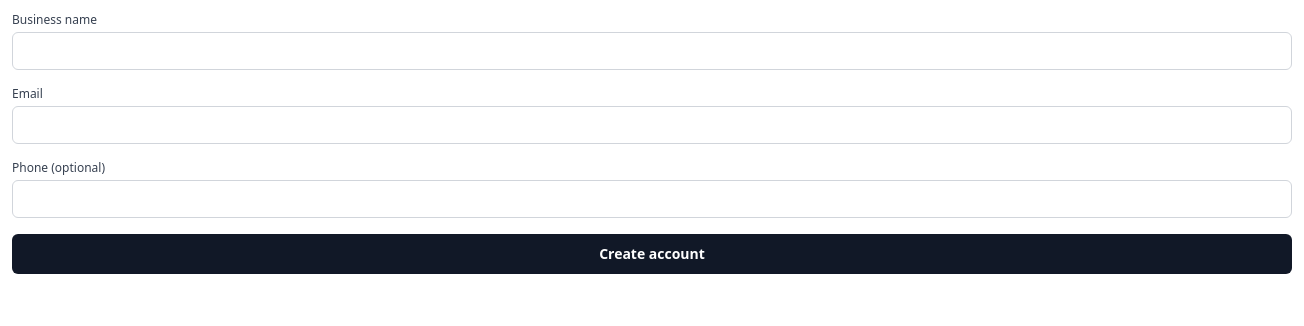
Scenario: AuthForm › shows the server error instead of a success message
Click the button "Create account". click: point(652, 254)
box: [12,234,1292,274]
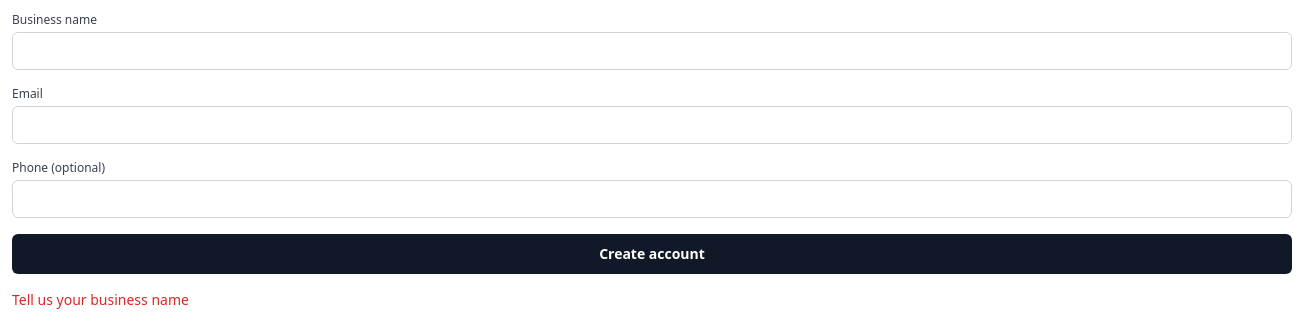
Check: the text "Tell us your business name" is shown, box [12,290,189,309]
